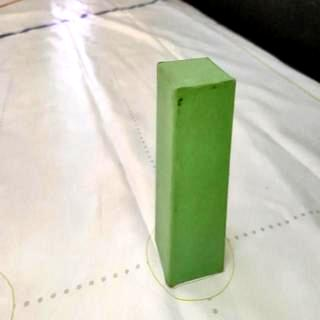greenbox: (154, 56, 236, 289)
